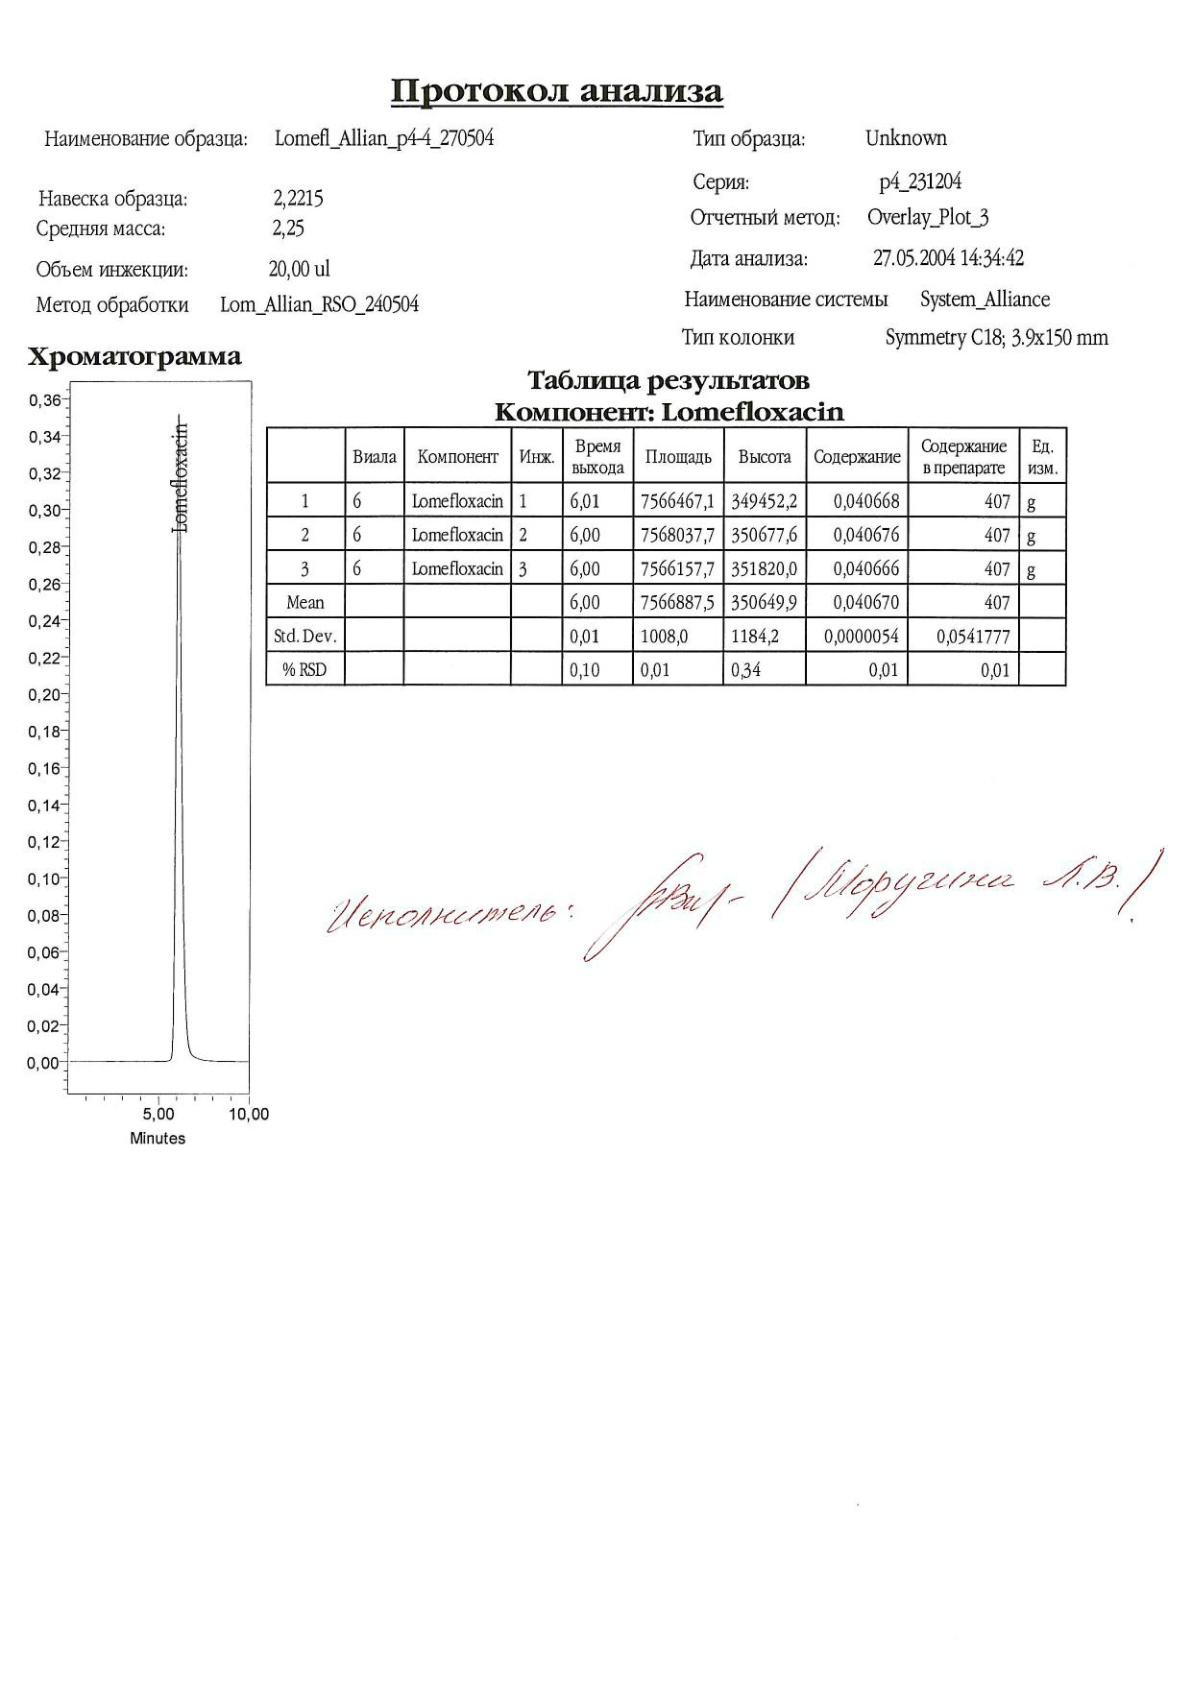full_lined: (263, 426, 1068, 689)
nolines: (34, 126, 1109, 346)
